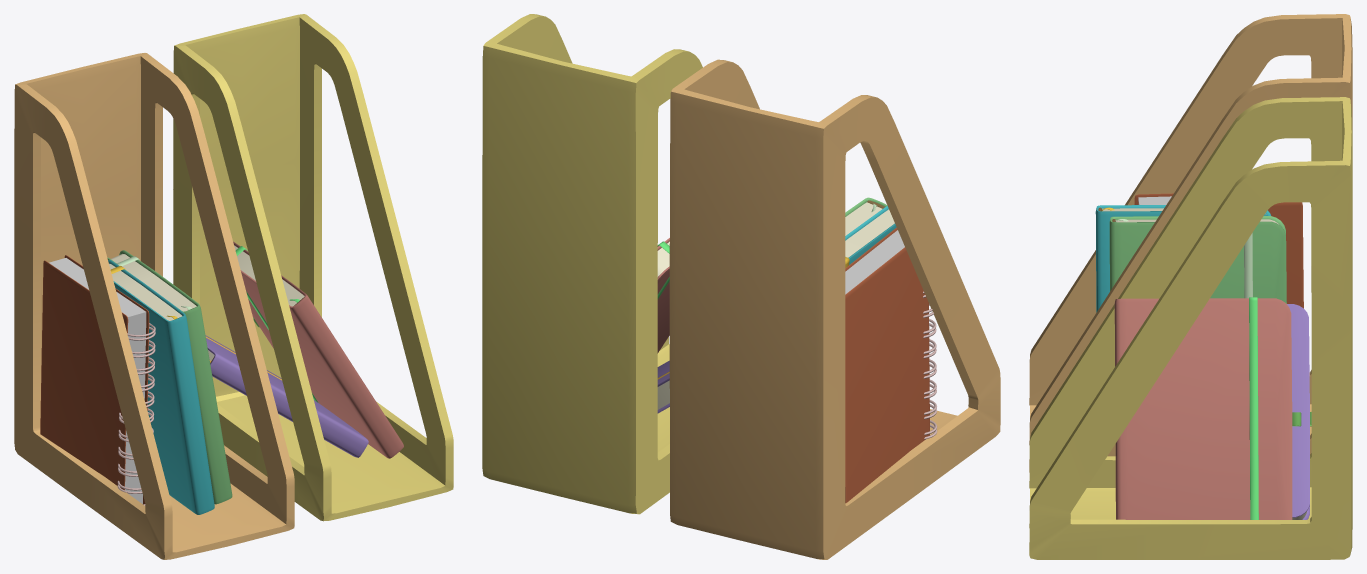
File: book.binder.fbx
The picture shows the model from 3 angles, left to right: view 1: azimuth 30°, elevation 25°; view 2: azimuth 150°, elevation 25°; view 3: azimuth 270°, elevation 25°; orthographic projection. The views are drawn at different scales.
Parts seen in each view (by area): view 1: folder stand, folder stand.001, notebook_with_springs.003, leather_notebook.005, leather_notebook.007, leather_notebook.006, leather_notebook.008; view 2: folder stand, folder stand.001, notebook_with_springs.003, leather_notebook.005, leather_notebook.007, leather_notebook.006; view 3: folder stand.001, leather_notebook.007, folder stand, leather_notebook.006, leather_notebook.008, notebook_with_springs.003, leather_notebook.005.
Boxes of the visible parts, x1,y1,x2,y2 form: folder stand: [14, 53, 294, 559]; folder stand.001: [173, 14, 453, 521]; notebook_with_springs.003: [40, 255, 155, 505]; leather_notebook.005: [108, 260, 214, 514]; leather_notebook.007: [233, 241, 403, 458]; leather_notebook.006: [107, 250, 232, 504]; leather_notebook.008: [205, 335, 368, 457]; folder stand: [669, 59, 1000, 559]; folder stand.001: [482, 14, 702, 514]; notebook_with_springs.003: [845, 227, 937, 503]; leather_notebook.005: [845, 206, 896, 267]; leather_notebook.007: [657, 238, 669, 353]; leather_notebook.006: [845, 197, 887, 235]; folder stand.001: [1029, 97, 1352, 559]; leather_notebook.007: [1114, 297, 1301, 519]; folder stand: [1029, 14, 1352, 472]; leather_notebook.006: [1109, 216, 1286, 303]; leather_notebook.008: [1287, 304, 1311, 519]; notebook_with_springs.003: [1134, 193, 1303, 308]; leather_notebook.005: [1095, 205, 1270, 312].
Size of the model in its own units: 3034 by 3712 by 2741.
